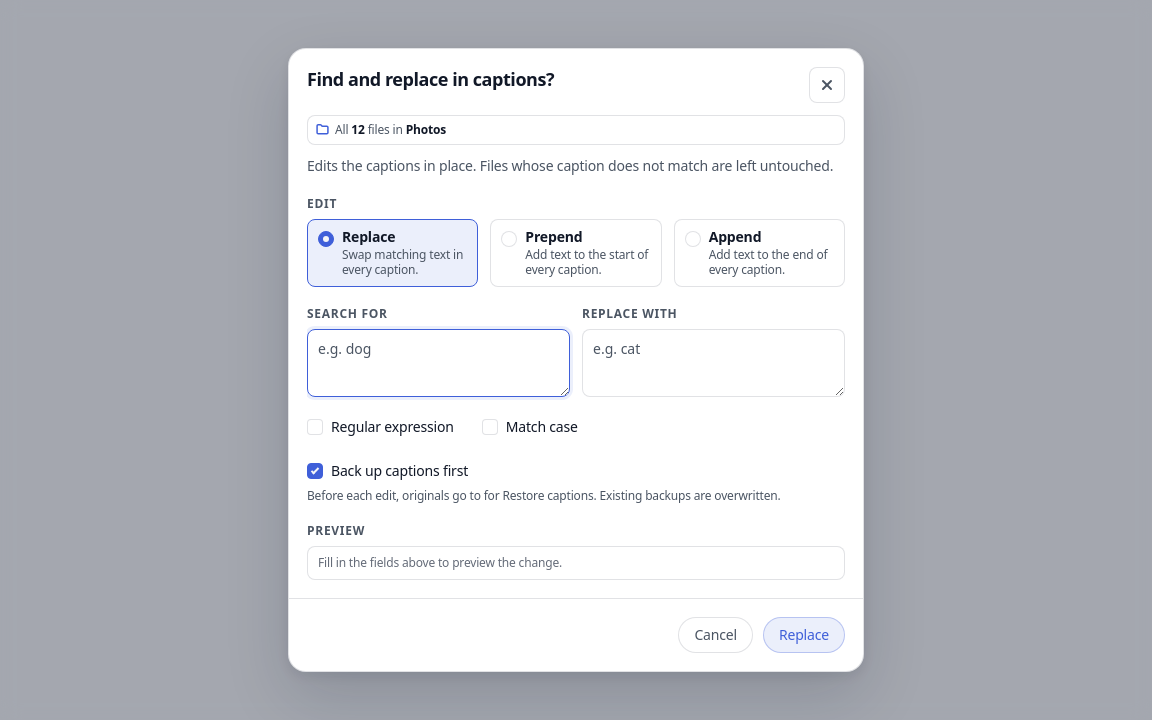
Test case: ReplaceCaptionsDialog › shows how many captions would change
Type "dog" into the text box labelled "Search for" at point(438, 363), box [307,329,570,397]
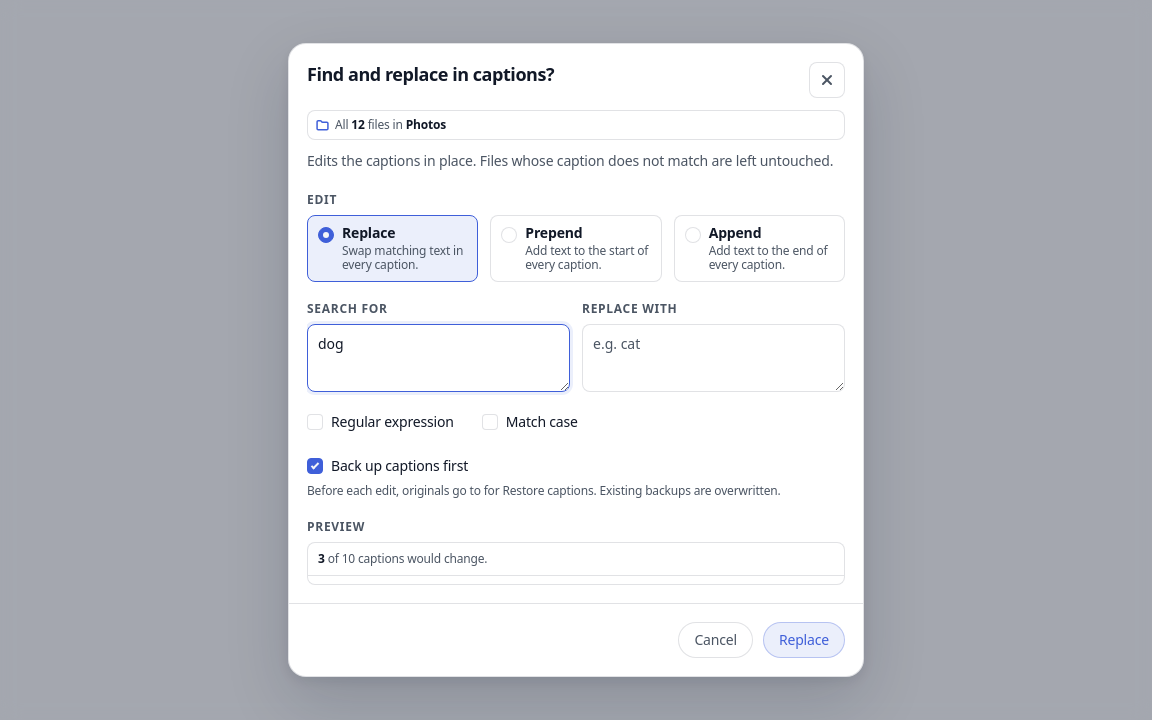
Check: the message shows "3 of 10 captions would change.", box [307,542,845,585]
